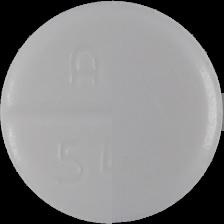0904-6207: (0, 0, 224, 224)
